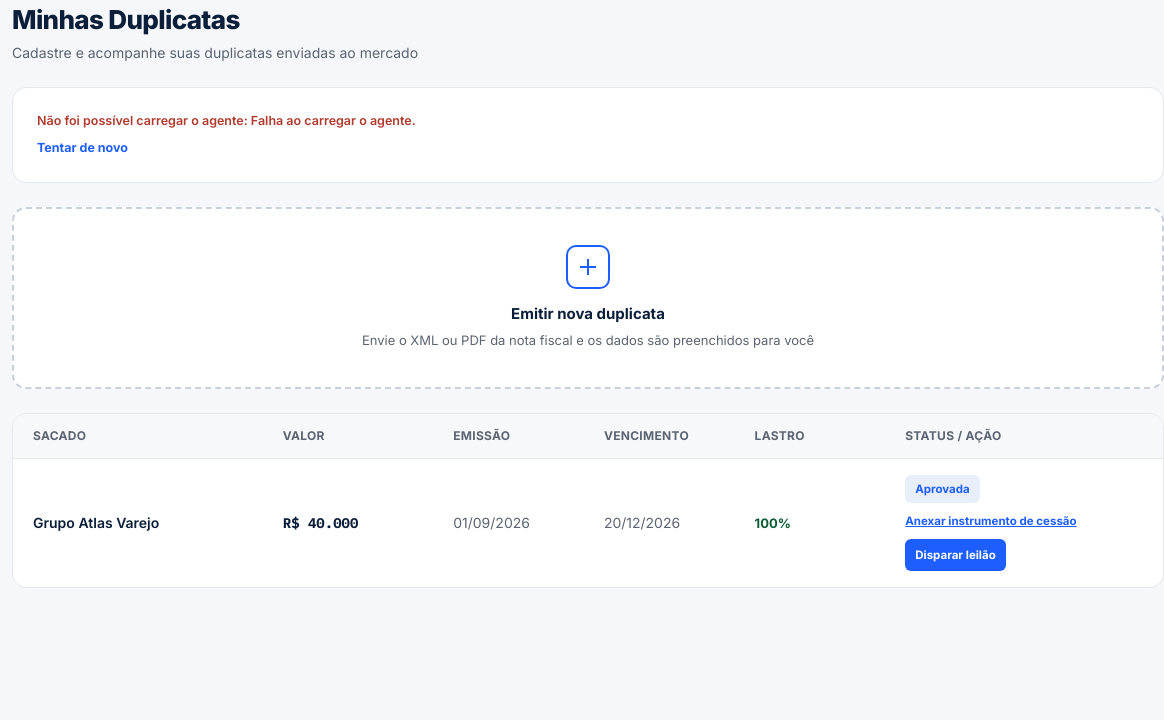
Test: MinhasPage — o leilão da própria duplicata › a simulação aparece em reais na hora de escolher a reserva
Step 1. Click the button "Disparar leilão" → (956, 554), box [905,538,1006,570]
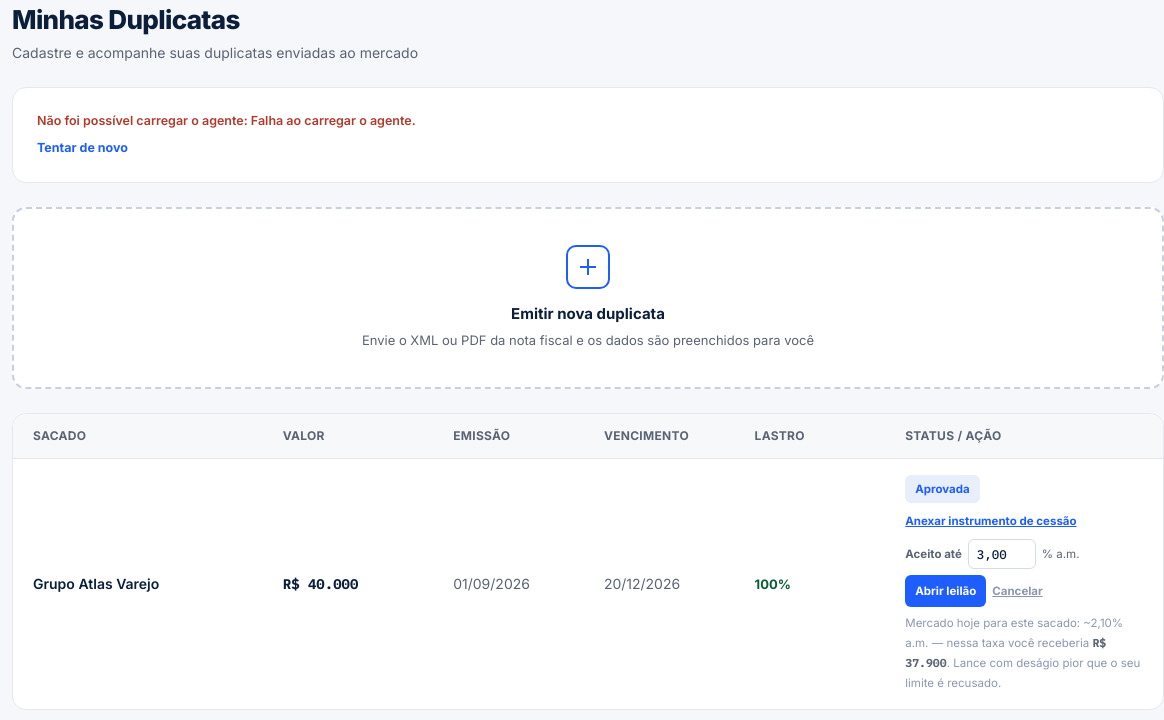
Check: the text "R$ 37.900" is shown, box [905,634,1106,670]
